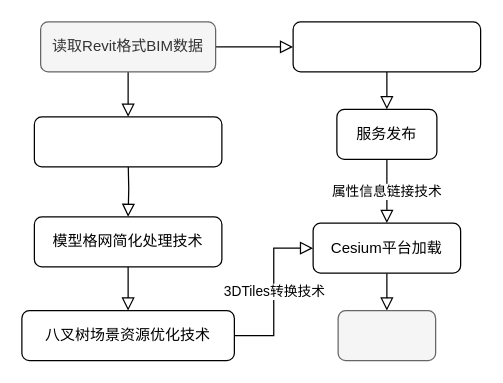
This 503x383 diagram has some shape labels left out. Each missing label, with the centre of its shape:
"场景优化" goes at (386,335).
"模型属性信息建库" goes at (386,46).
"获取BIM模型几何结构" goes at (127,141).
